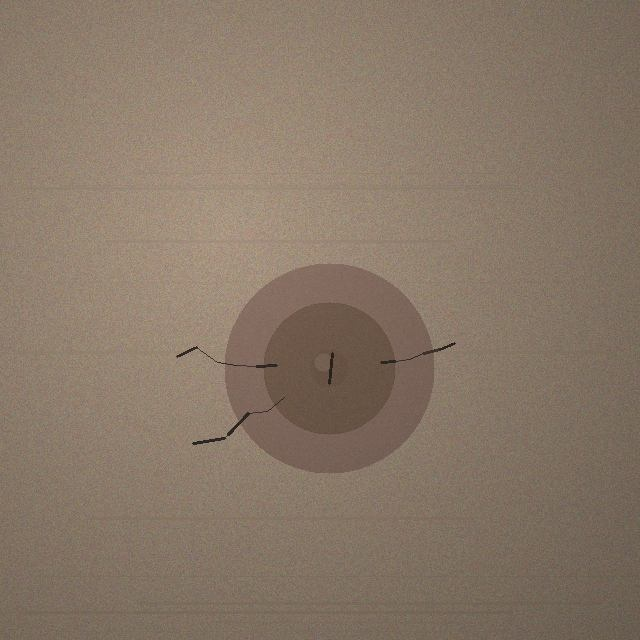crack: (224, 263, 434, 473)
